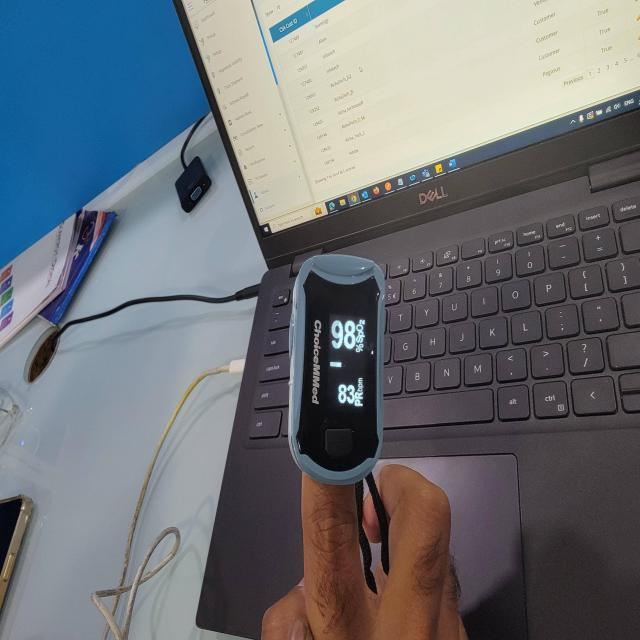spo2: (289, 255, 388, 487)
